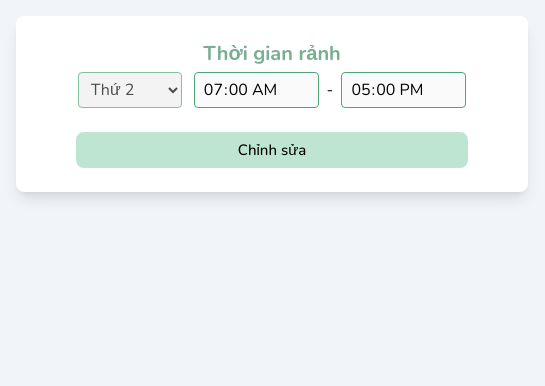
Scenario: AvailableTimePage › allows editing time values in edit mode
Click the button "Chỉnh sửa".
click(272, 150)  # box [76,132,468,168]
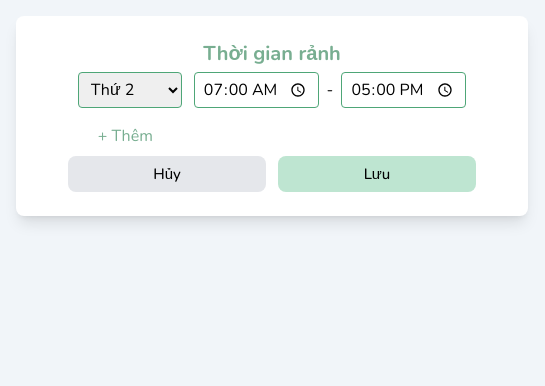
Replace the text in the 1st time field showing "07:00" with "09:00" at (256, 90), box [194,72,319,108]
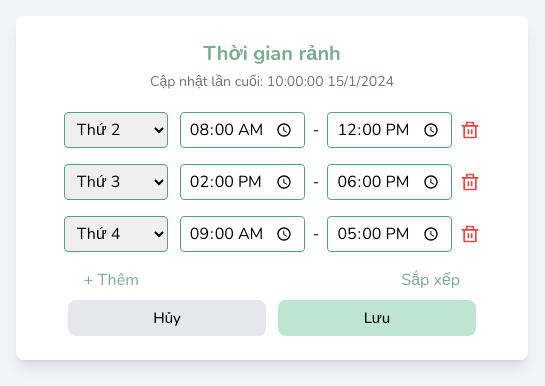
Now the 5th time field showing "09:00" is shown, box [180,216,305,252]
